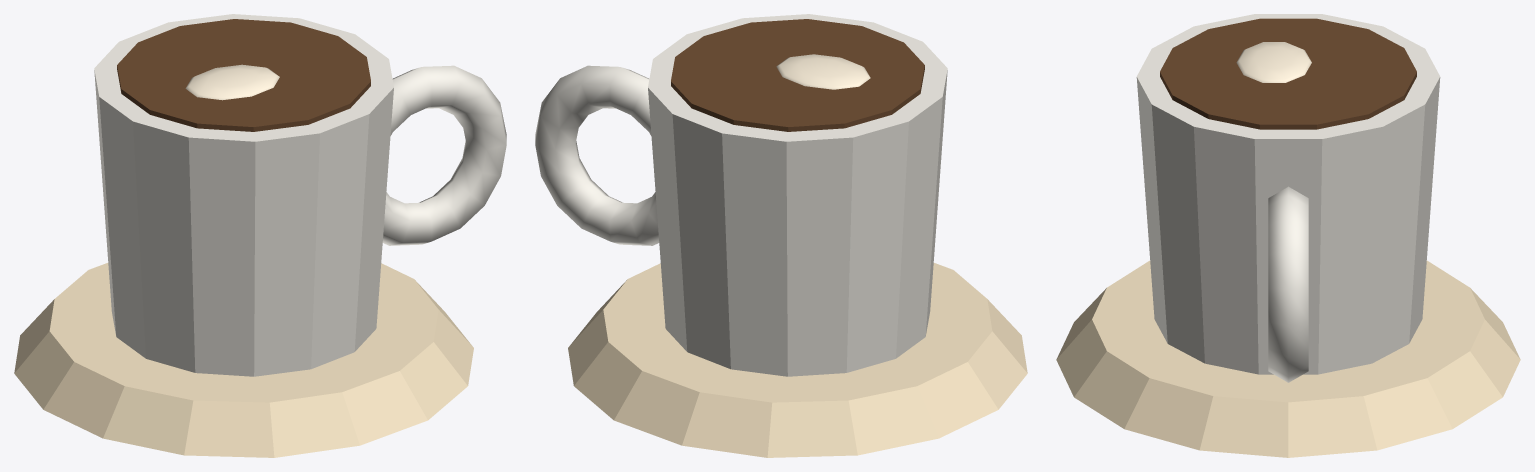
File: hand_brew.glb
3 renders of one model, left to right at view 1: azimuth 30°, elevation 25°; view 2: azimuth 150°, elevation 25°; view 3: azimuth 270°, elevation 25°, orthographic.
Parts seen in each view (by area): view 1: hand_brew_white, hand_brew_cream, hand_brew_coffee, hand_brew_foam; view 2: hand_brew_white, hand_brew_cream, hand_brew_coffee, hand_brew_foam; view 3: hand_brew_white, hand_brew_cream, hand_brew_coffee, hand_brew_foam.
Part boxes in pixels (x1,y1,x2,y2): hand_brew_white: [94, 14, 506, 376]; hand_brew_cream: [14, 263, 473, 457]; hand_brew_coffee: [117, 19, 370, 131]; hand_brew_foam: [185, 64, 279, 100]; hand_brew_white: [535, 14, 947, 376]; hand_brew_cream: [568, 263, 1027, 457]; hand_brew_coffee: [671, 19, 924, 131]; hand_brew_foam: [776, 54, 870, 89]; hand_brew_white: [1136, 14, 1440, 382]; hand_brew_cream: [1056, 260, 1520, 457]; hand_brew_coffee: [1160, 18, 1416, 129]; hand_brew_foam: [1236, 42, 1311, 82].
Bounding box in the file's own units: 0.3 × 0.1815 × 0.26.
